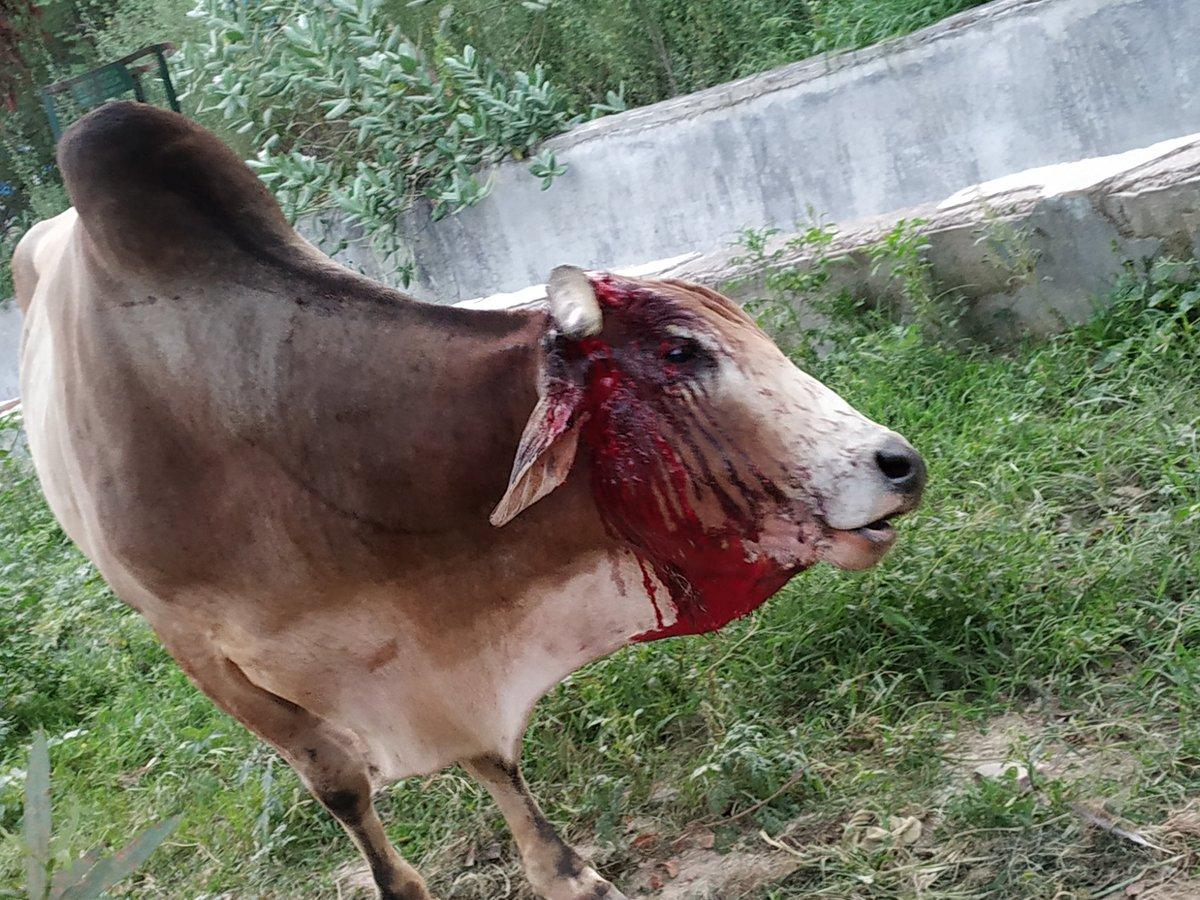bleeding: (460, 242, 908, 667)
